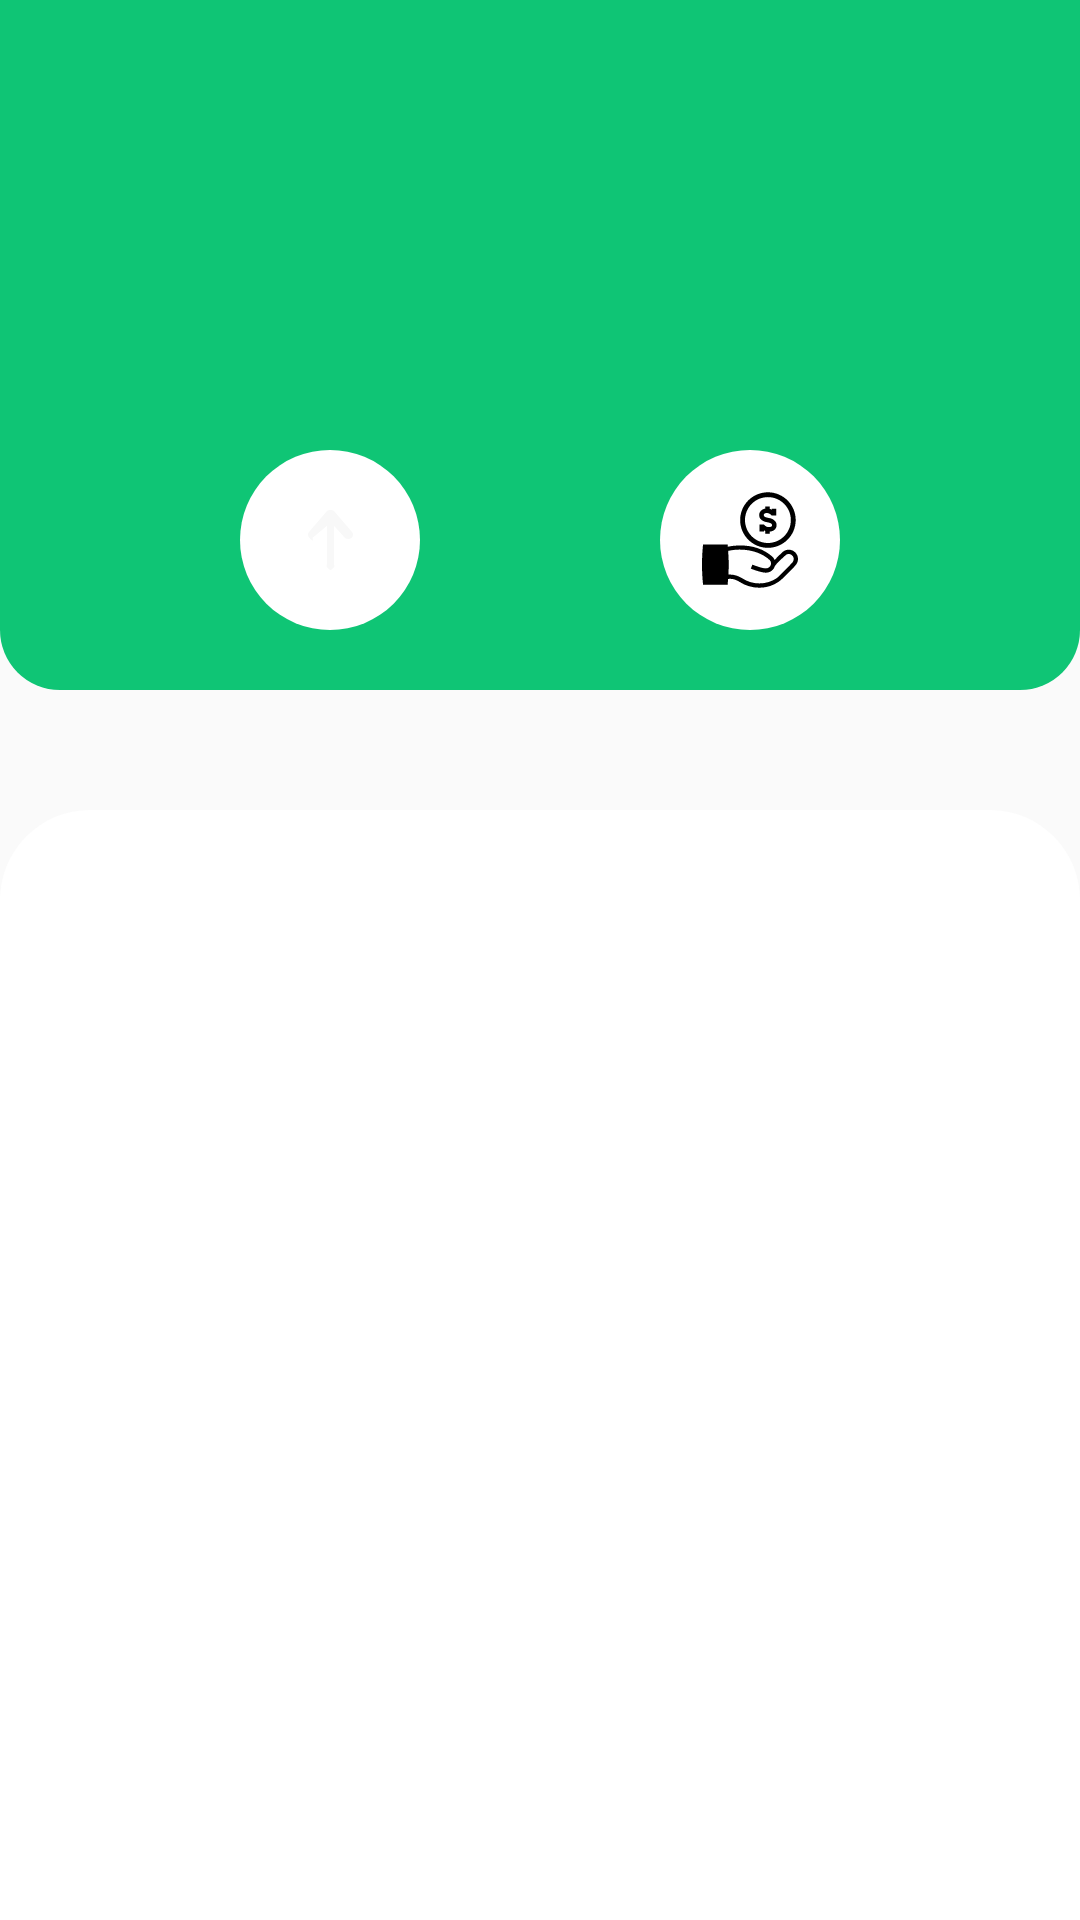

Screen size 1080 x 1920. Icon name, then its box in pixels as (x1, y1, x2, y2):
incomes: (660, 450, 840, 630)
